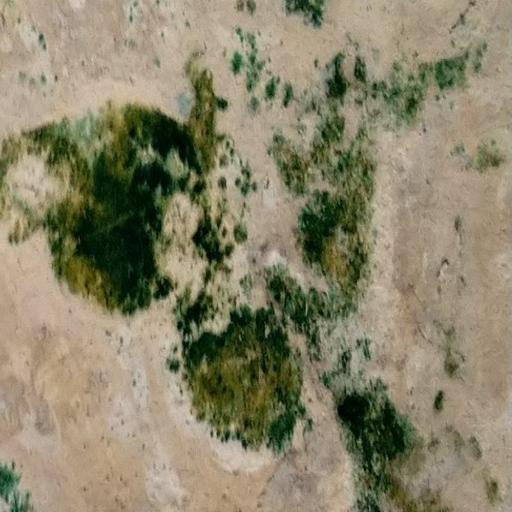algae: (1, 35, 493, 497)
